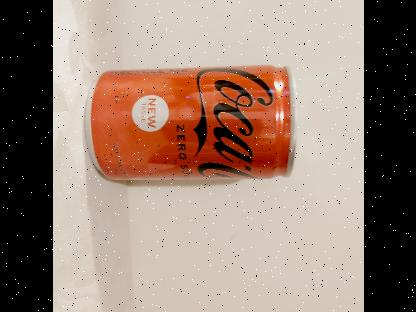Can: (84, 64, 298, 180)
